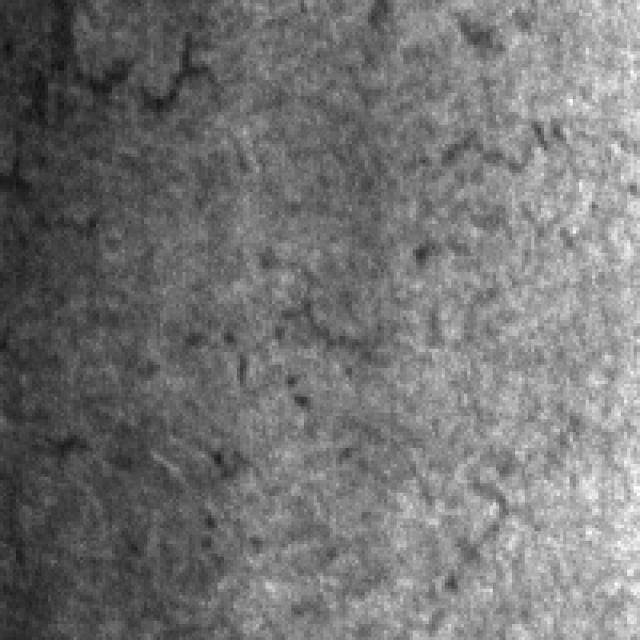crazing: (3, 0, 218, 464), (278, 109, 640, 352)
